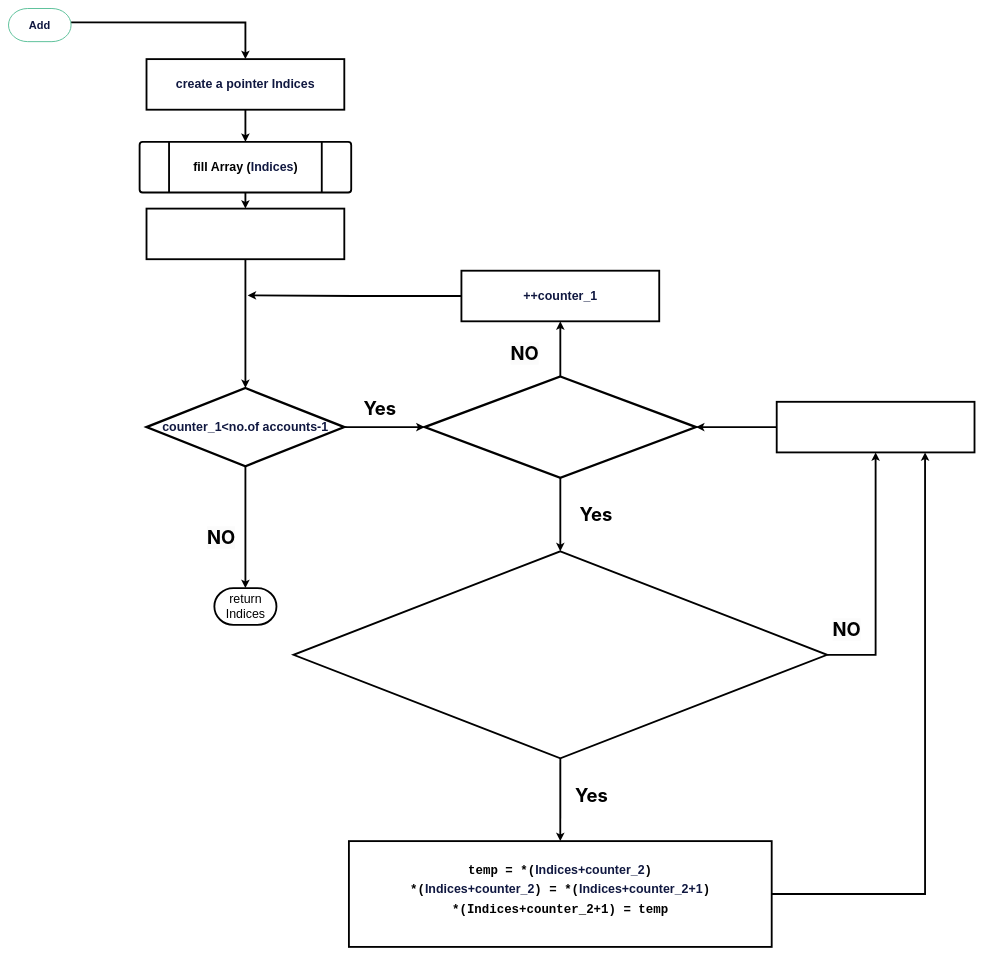
This 983x955 diagram has some shape labels left out. Each missing label, with the centre of its shape:
"++counter_2" goes at point (875, 427).
"account[*(Indices+counter_2)].data > account[*(Indices+counter_2+1)].data" goes at point (560, 654).
"counter_2< no.of accounts-1-counter_1" goes at point (560, 427).
"declare vars counter_1=0, counter_2=0, temp" goes at point (245, 233).
